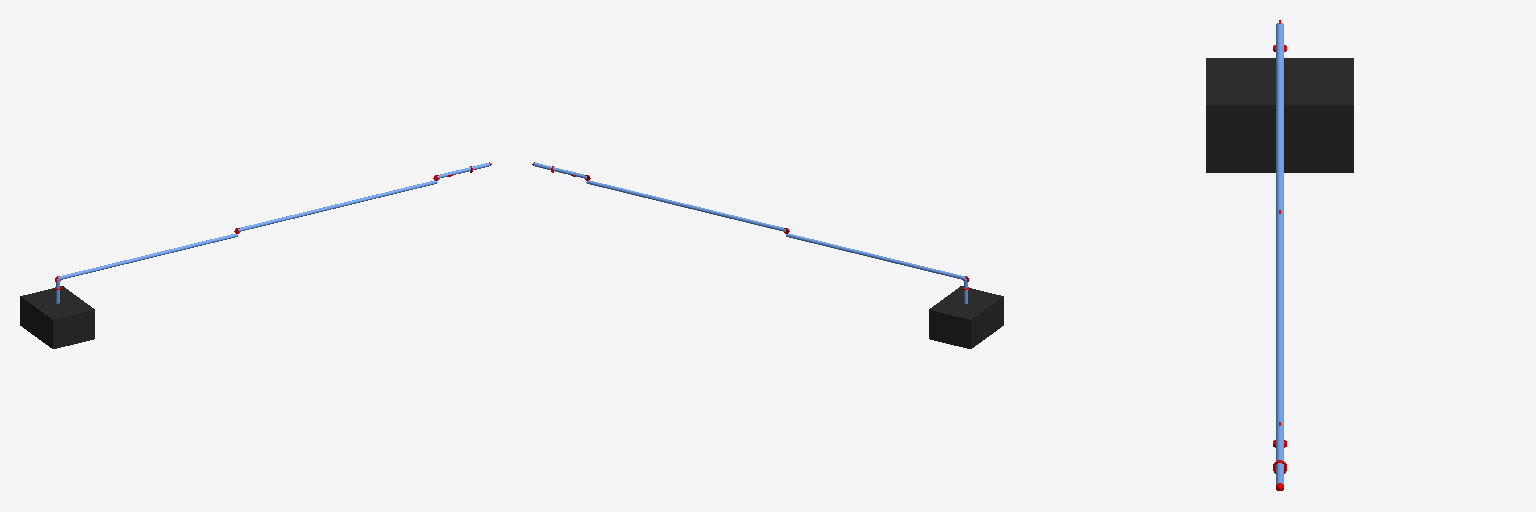
The robot description file, URDF, robot "SRMS_Canadarm":
<?xml version="1.0" ?>

<!-- URDF Created from information in the following Paper:

Nguyen, Phung Khac, and Peter C. Hughes. "Teleoperation: from the space shuttle to the space station." Progress in astronautics and aeronautics 161 (1994): 353-353.

The link CoM locations (with respect to link frame) are set to zero as the inertia tensor is defined with respect to the link frame in the paper.

 -->

<robot name="SRMS_Canadarm">

  <!-- Colors -->
  <material name="Grey">
    <color rgba="0.2 0.2 0.2 1.0"/>
  </material>
  <material name="Orange">
    <color rgba="1.0 0.423529411765 0.0392156862745 1.0"/>
  </material>
  <material name="Blue">
  <color rgba="0.5 0.7 1.0 1.0"/>      
  </material>
  <material name="Red">
    <color rgba="1 0 0 1.0"/>      
  </material>

  <!-- SRMS_Canadarm Dummy Base Body-->
  <link name="Base_SRMS">
    <visual>
      <origin rpy="0 0 0" xyz="0 0 0"/>
      <geometry>
        <box size="1.5 2 1" />
      </geometry>
      <material name="Grey"/>
    </visual>
  </link>

  <!-- Dummy Joint Joining Base to Body B1 -->
  <joint name="dummyBaseJoint" type="fixed">
    <parent link="Base_SRMS"/>
    <child link="B1"/>
    <!-- Rotate Frame to Match the frames on Fig. 13 in Paper -->
    <origin rpy="3.1416 0 0" xyz="0 0 0.5"/>
  </joint>


  <!--Manipulator-->
  <!-- Link 1 -->
  <link name="B1">

    <inertial>
      <origin rpy="0 0 0" xyz="0 0 0"/>
      <mass value="63.24"/>
      <inertia ixx="3.664" ixy="0.0044" ixz="0.0047" iyy="3.803" iyz="0.506" izz="0.686"/>
    </inertial>

    <visual>
      <origin rpy="0 0 0" xyz="0 0 -0.2586"/>
      <geometry>
        <cylinder radius="0.06" length="0.5172"/>
      </geometry>
      <material name="Blue"/>
    </visual>

  </link>


  <!-- Joint 1: Shoulder Yaw Joint -->
  <joint name="Shoulder_Yaw" type="revolute">
    <parent link="B1"/>
    <child link="B2"/>
    <origin rpy="0 0 0" xyz="0 0 -0.5172"/>
    <axis xyz="0 0 1"/>
    <limit lower="-3.0962" upper="3.0962" effort="1570" velocity="0.03997"/>
  </joint>

  <!-- Link 2 -->
  <link name="B2">

    <inertial>
      <origin rpy="0 0 0" xyz="0 0 0"/>
      <mass value="32.12"/>
      <inertia ixx="1.115" ixy="-0.019" ixz="-0.08" iyy="1.417" iyz="-0.037" izz="0.595"/>
    </inertial>

    <visual>
      <origin rpy="0 0 0" xyz="0 0 -0.1524"/>
      <geometry>
        <cylinder radius="0.06" length="0.3048"/>
      </geometry>
      <material name="Blue"/>
    </visual>

    <visual>
      <origin rpy="0 0 0" xyz="0 0 0.02"/>
      <geometry>
        <cylinder radius="0.1" length="0.04"/>
      </geometry>
      <material name="Red"/>
    </visual>

  </link>


  <!-- Joint 2: Shoulder Pitch Joint -->
  <joint name="Shoulder_Pitch" type="revolute">
    <parent link="B2"/>
    <child link="B3"/>
    <origin rpy="0 0 0" xyz="0 0 -0.3048"/>
    <axis xyz="0 1 0"/>
    <limit lower="0" upper="2.485" effort="1570" velocity="0.03997"/>
  </joint>


  <!-- Link 3 -->
  <link name="B3">

    <inertial>
      <origin rpy="0 0 0" xyz="0 0 0"/>
      <mass value="139.35"/>
      <inertia ixx="3.225" ixy="-1.928" ixz="9.185" iyy="998.63" iyz="-0.0302" izz="997.18"/>
    </inertial>

    <visual>
      <origin rpy="1.5708 0 1.5708" xyz="3.175 0 0"/>
      <geometry>
        <cylinder radius="0.06" length="6.35"/>
      </geometry>
      <material name="Blue"/>
    </visual>

    <visual>
      <origin rpy="1.5708 0 0" xyz="0 0 0.02"/>
      <geometry>
        <cylinder radius="0.1" length="0.04"/>
      </geometry>
      <material name="Red"/>
    </visual>

  </link>

  <!-- Joint 3: Elbow Pitch Joint -->
  <joint name="Elbow_Pitch" type="revolute">
    <parent link="B3"/>
    <child link="B4"/>
    <origin rpy="0 0 0" xyz="6.377 0 -0.1524"/>
    <axis xyz="0 1 0"/>
    <limit lower="-2.75064" upper="0" effort="1074" velocity="0.0560"/>
  </joint>


  <!-- Link 4 -->
  <link name="B4">

    <inertial>
      <origin rpy="0 0 0" xyz="0 0 0"/>
      <mass value="87.42"/>
      <inertia ixx="1.59" ixy="0.8021" ixz="-3.786" iyy="632.9" iyz="-0.08" izz="632.51"/>
    </inertial>

    <visual>
      <origin rpy="1.5708 0 1.5708" xyz="3.53 0 0"/>
      <geometry>
        <cylinder radius="0.06" length="7.06"/>
      </geometry>
      <material name="Blue"/>
    </visual>

    <visual>
      <origin rpy="1.5708 0 0" xyz="0 0 0.02"/>
      <geometry>
        <cylinder radius="0.1" length="0.04"/>
      </geometry>
      <material name="Red"/>
    </visual>

  </link>

  <!-- Joint 4: Wrist Pitch Joint -->
  <joint name="Wrist_Pitch" type="revolute">
    <parent link="B4"/>
    <child link="B5"/>
    <origin rpy="0 0 0" xyz="7.06 0 -0.1524"/>
    <axis xyz="0 1 0"/>
    <limit lower="-2.0316" upper="2.0316" effort="470" velocity="0.0831"/>
  </joint>


  <!-- Link 5 -->
  <link name="B5">

    <inertial>
      <origin rpy="0 0 0" xyz="0 0 0"/>
      <mass value="8.48"/>
      <inertia ixx="0.0893" ixy="0" ixz="0" iyy="0.402" iyz="0" izz="0.402"/>
    </inertial>

    <visual>
      <origin rpy="1.5708 0 1.5708" xyz="0.2286 0 0"/>
      <geometry>
        <cylinder radius="0.06" length="0.4572"/>
      </geometry>
      <material name="Blue"/>
    </visual>

    <visual>
      <origin rpy="1.5708 0 0" xyz="0 0 0.02"/>
      <geometry>
        <cylinder radius="0.1" length="0.04"/>
      </geometry>
      <material name="Red"/>
    </visual>

  </link>

  <!-- Joint 5: Wrist Yaw Joint -->
  <joint name="Wrist_Yaw" type="revolute">
    <parent link="B5"/>
    <child link="B6"/>
    <origin rpy="0 0 0" xyz="0.4572 0 0"/>
    <axis xyz="0 0 1"/>
    <limit lower="-2.0316" upper="2.0316" effort="470" velocity="0.0831"/>
  </joint>

  <!-- Link 6 -->
  <link name="B6">

    <inertial>
      <origin rpy="0 0 0" xyz="0 0 0"/>
      <mass value="45.94"/>
      <inertia ixx="0.408" ixy="0" ixz="0" iyy="4.68" iyz="0" izz="4.68"/>
    </inertial>

    <visual>
      <origin rpy="1.5708 0 1.5708" xyz="0.381 0 0"/>
      <geometry>
        <cylinder radius="0.06" length="0.762"/>
      </geometry>
      <material name="Blue"/>
    </visual>

    <visual>
      <origin rpy="0 0 0" xyz="0 0 0.02"/>
      <geometry>
        <cylinder radius="0.1" length="0.04"/>
      </geometry>
      <material name="Red"/>
    </visual>

  </link>

  <!-- Joint 6: Wrist Roll Joint -->
  <joint name="Wrist_Roll" type="revolute">
    <parent link="B6"/>
    <child link="B7"/>
    <origin rpy="0 0 0" xyz="0.762 0 0"/>
    <axis xyz="1 0 0"/>
    <limit lower="-7.714" upper="7.714" effort="470" velocity="0.0831"/>
  </joint>

  <!-- Link 7 -->
  <link name="B7">

    <inertial>
      <origin rpy="0 0 0" xyz="0 0 0"/>
      <mass value="45.21"/>
      <inertia ixx="1.903" ixy="0.385" ixz="0.966" iyy="3.816" iyz="0.353" izz="2.823"/>
    </inertial>

    <visual>
      <origin rpy="1.5708 0 1.5708" xyz="0.3302 0 0"/>
      <geometry>
        <cylinder radius="0.06" length="0.6604"/>
      </geometry>
      <material name="Blue"/>
    </visual>

    <visual>
      <origin rpy="0 1.5708 0" xyz="0 0 0.02"/>
      <geometry>
        <cylinder radius="0.1" length="0.04"/>
      </geometry>
      <material name="Red"/>
    </visual>

  </link>

  <!-- Fixed End-effector Joint -->
  <joint name="joint_ee_fixed" type="fixed">
    <parent link="B7"/>
    <child link="link_ee"/>
    <origin rpy="0 0 0" xyz="0.6604 0 0"/>
  </joint>

  <!-- End-Effector -->
  <link name="link_ee">

    <inertial>
      <origin rpy="0 0 0" xyz="0 0 0"/>
      <mass value="0"/>
      <inertia ixx="0" ixy="0" ixz="0" iyy="0" iyz="0" izz="0"/>
    </inertial>

    <visual>
      <origin rpy="0 0 0" xyz="0 0 0"/>
      <geometry>
        <sphere radius="0.06"/>
      </geometry>
      <material name="Red"/>
    </visual>
  </link>


</robot>

--- Facts derived from the render (not from the file) ---
3 views of the same robot in one strip: view 1: azimuth 30°, elevation 25°; view 2: azimuth 150°, elevation 25°; view 3: azimuth 270°, elevation 25° (orthographic).
Robot: SRMS_Canadarm — 9 links, 8 joints (6 revolute, 2 fixed); root link Base_SRMS; default pose: all joints at 0.
Links seen in each view (by area): view 1: Base_SRMS, B4, B3; view 2: Base_SRMS, B4, B3; view 3: Base_SRMS, B4, B3.
Boxes of the visible links, box(x1,y1,x2,y2) form: Base_SRMS: box(20, 286, 94, 348); B4: box(234, 180, 437, 233); B3: box(55, 233, 237, 281); Base_SRMS: box(929, 286, 1003, 348); B4: box(586, 180, 789, 233); B3: box(786, 233, 968, 281); Base_SRMS: box(1206, 58, 1353, 172); B4: box(1276, 210, 1283, 425); B3: box(1276, 20, 1283, 213).
Bounding box of the posed robot: 16.13 × 2 × 2.21 m (x, y, z).
Geometry: primitives only (box / cylinder / sphere), no mesh files.
